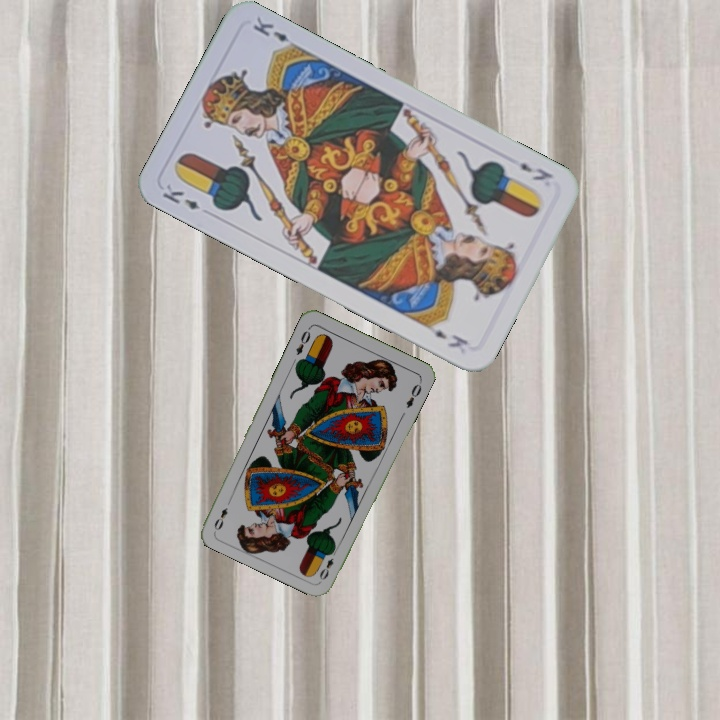EK: (158, 180, 202, 213), (516, 158, 556, 184)
EO: (315, 545, 340, 583), (292, 323, 313, 358)
